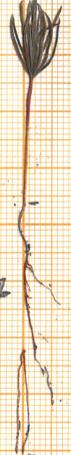flower: (1, 0, 69, 81)
root: (11, 202, 65, 455)
stem: (19, 83, 36, 204)
